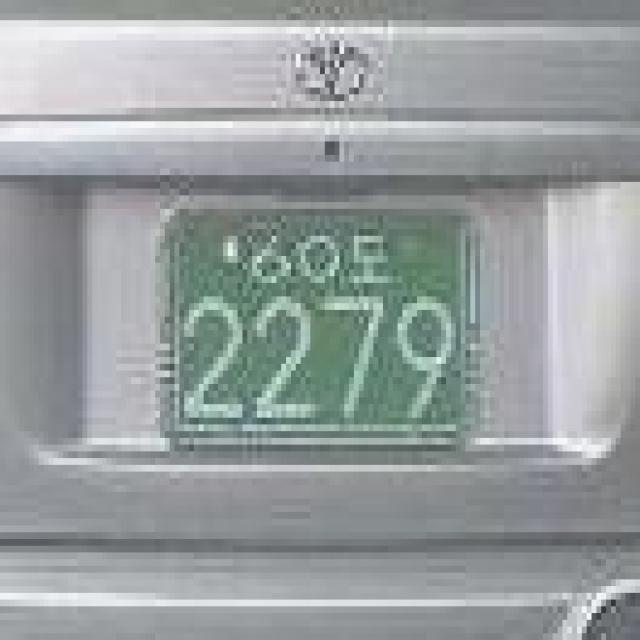illegal_plate: (150, 189, 491, 474)
